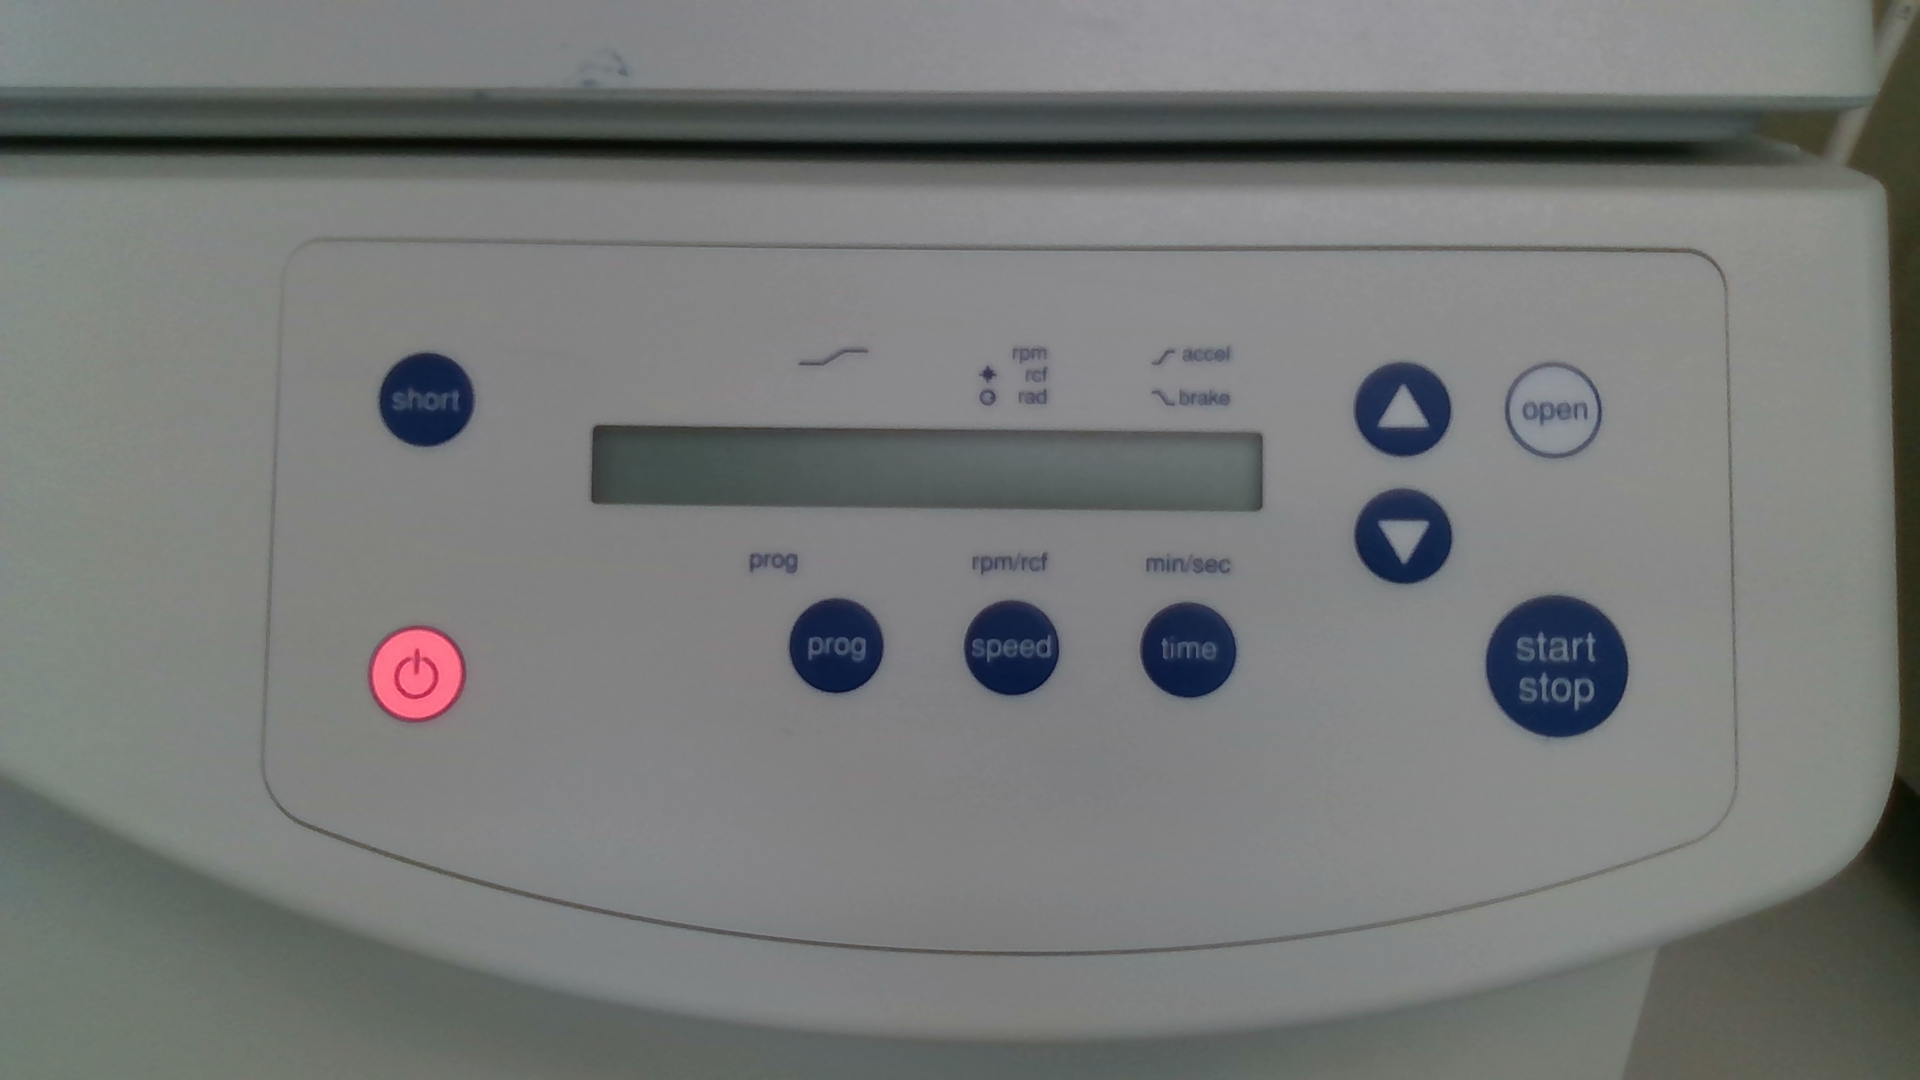open_off: (1505, 363, 1604, 459)
power_off: (367, 625, 465, 723)
